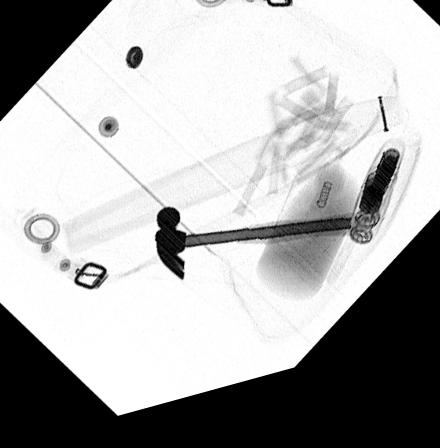Hammer: (154, 214, 361, 290)
